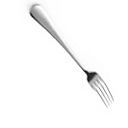Fork: (24, 3, 114, 110)
